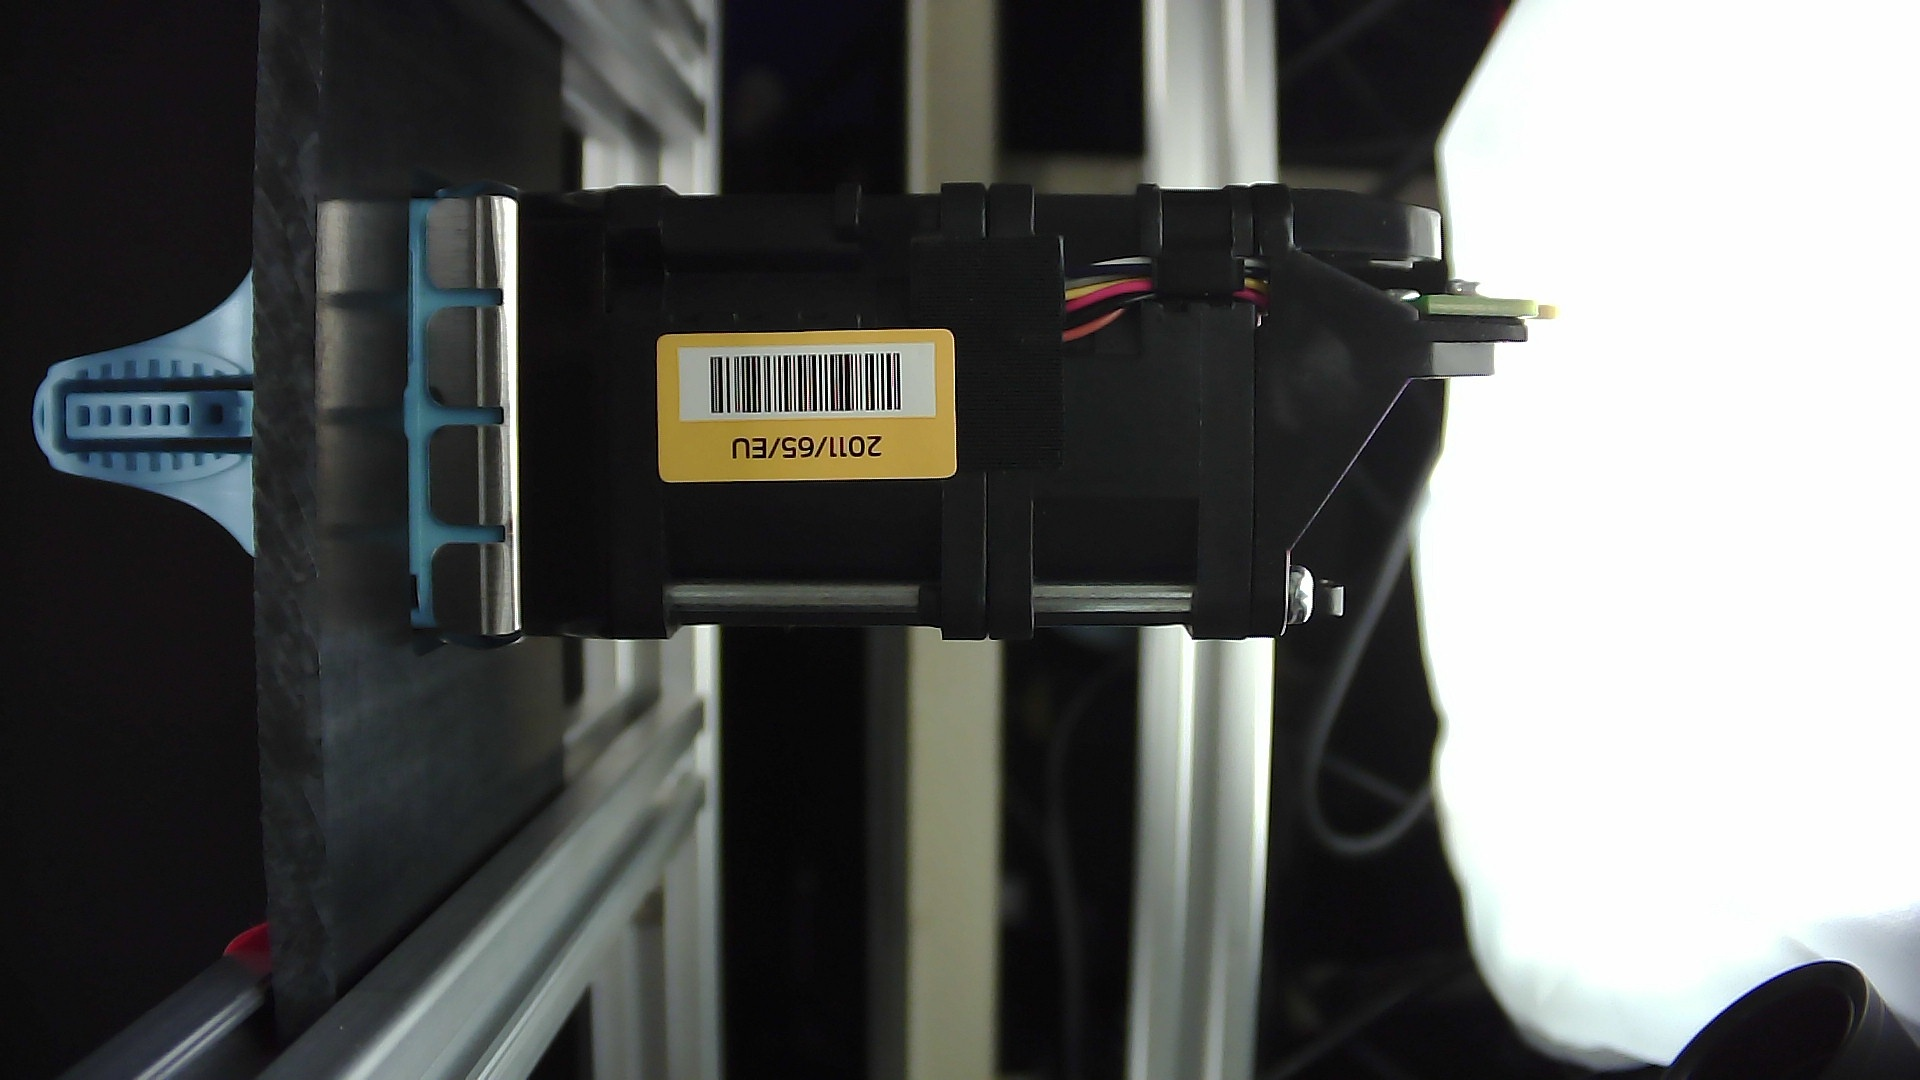1_0: (363, 131, 1567, 699)
